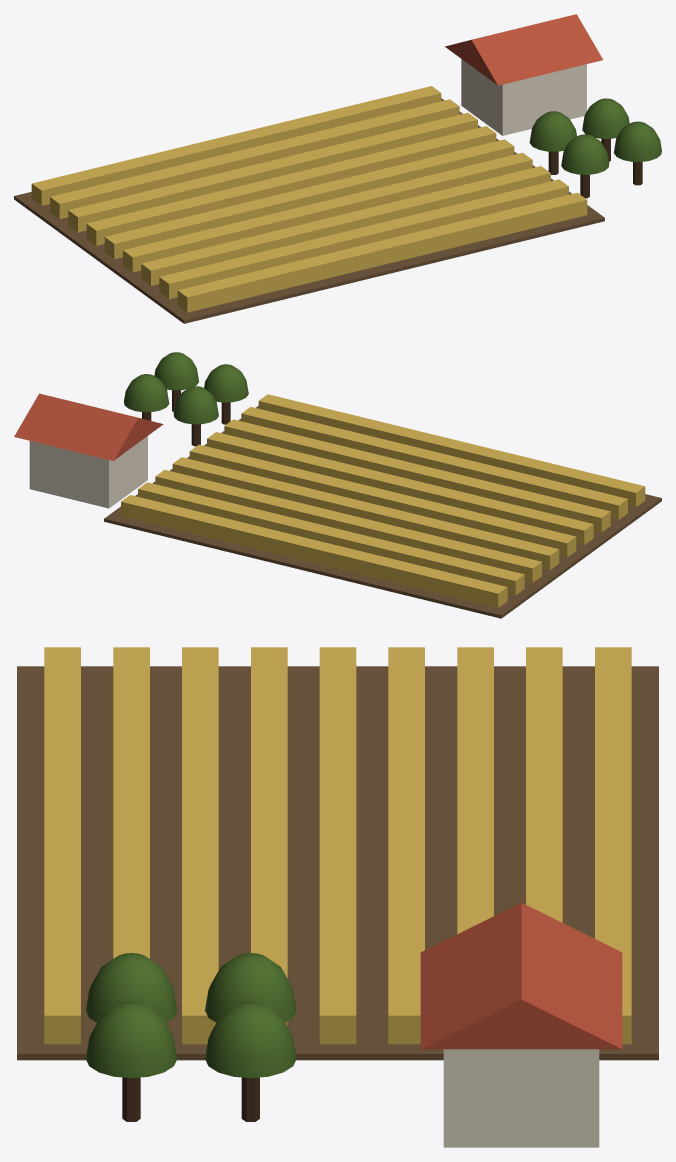
File: farm.glb
3 views of the same model, one above another, from view 1: azimuth 30°, elevation 25°; view 2: azimuth 150°, elevation 25°; view 3: azimuth 270°, elevation 25° (orthographic). The views are drawn at different scales.
Visible parts, largest first — view 1: Farm; view 2: Farm; view 3: Farm.
Part boxes in pixels (x1=…): Farm: x1=14, y1=14, x2=661, y2=323; Farm: x1=14, y1=352, x2=661, y2=618; Farm: x1=17, y1=647, x2=658, y2=1147.
Size of the model in its own units: 25 by 3.8 by 14.
